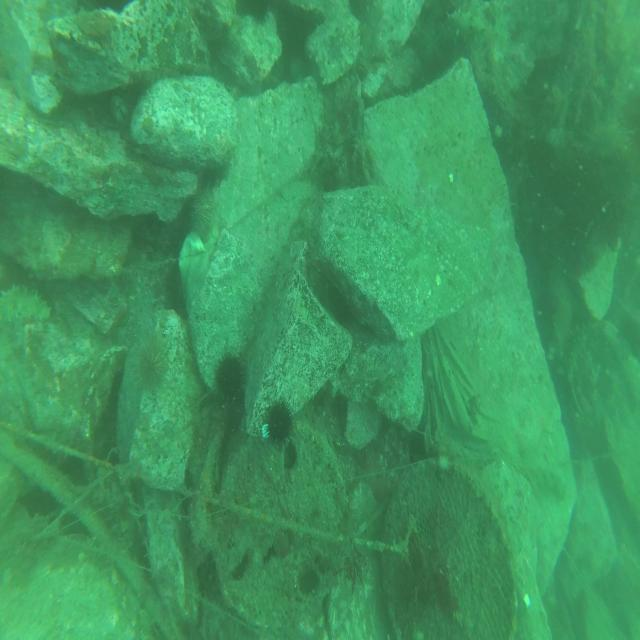echinus: (554, 139, 590, 221), (521, 122, 559, 184), (212, 355, 250, 413), (560, 219, 594, 280), (321, 278, 355, 332), (188, 184, 218, 238), (260, 397, 294, 444), (135, 343, 169, 390)
holothurian: (479, 13, 517, 118), (515, 453, 570, 497), (128, 275, 157, 358), (560, 322, 589, 396), (0, 283, 52, 320), (441, 4, 485, 44)
